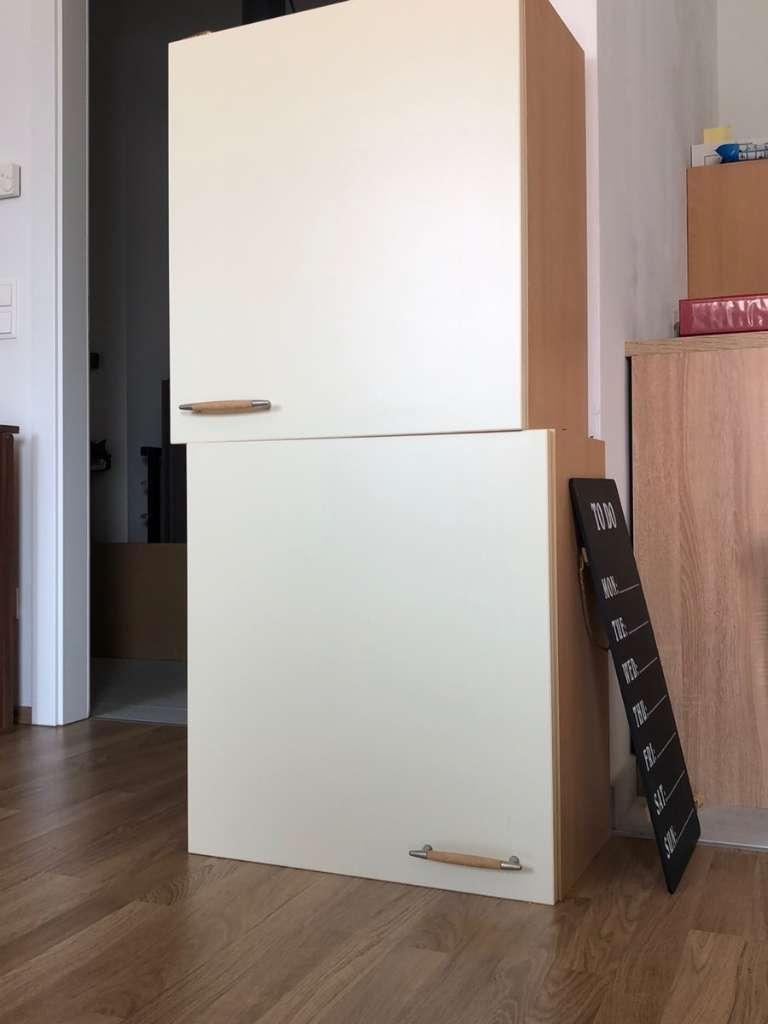cabinet_door: (192, 437, 557, 875), (175, 27, 523, 437)
handle: (403, 832, 532, 880), (177, 386, 276, 429)
